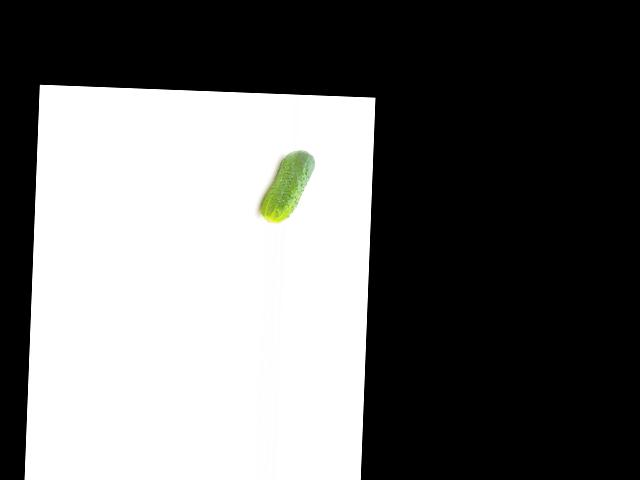cucumber: (260, 148, 315, 225)
